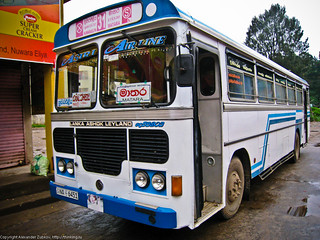bus: (48, 1, 312, 232)
